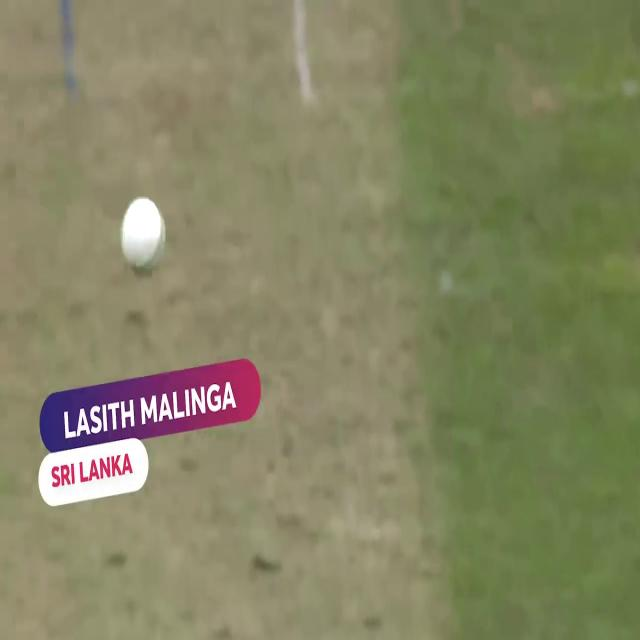ball: (99, 173, 179, 296)
